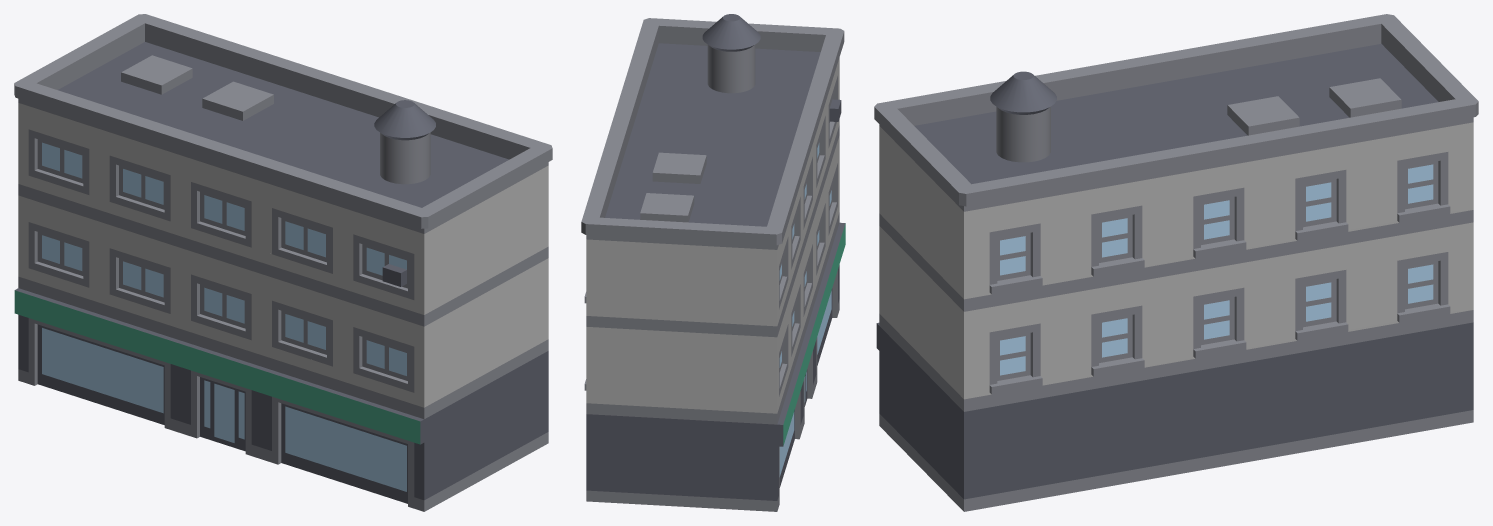
The model's file is large_buildingF.004.obj.
3 renders of one model, left to right at view 1: azimuth 30°, elevation 25°; view 2: azimuth 150°, elevation 25°; view 3: azimuth 270°, elevation 25°, orthographic. The views are drawn at different scales.
Visible parts, largest first — view 1: large_buildingF.001; view 2: large_buildingF.001; view 3: large_buildingF.001.
Boxes of the visible parts, x1,y1,x2,y2 form: large_buildingF.001: (14, 14, 552, 511); large_buildingF.001: (581, 14, 845, 511); large_buildingF.001: (874, 14, 1478, 511).
Size of the model in its own units: 22.8 by 22.09 by 32.26.
